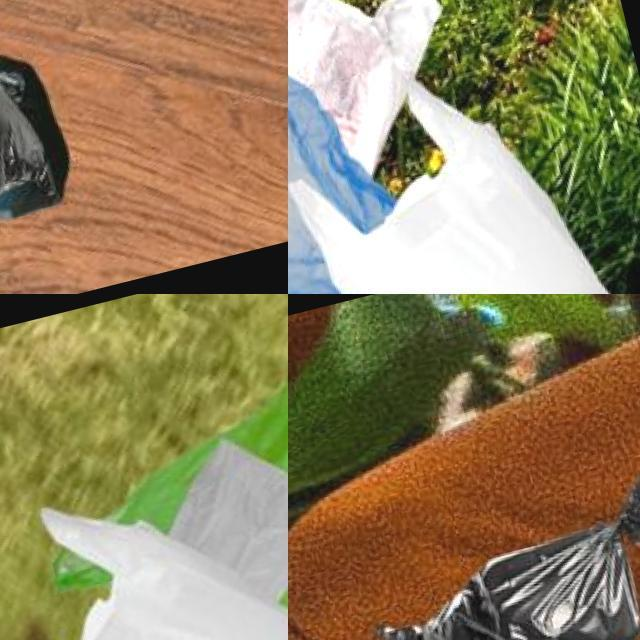waste: (13, 309, 288, 640), (288, 45, 640, 294), (0, 447, 288, 640), (288, 15, 425, 294), (373, 503, 640, 640), (288, 0, 462, 177), (0, 0, 66, 262)
